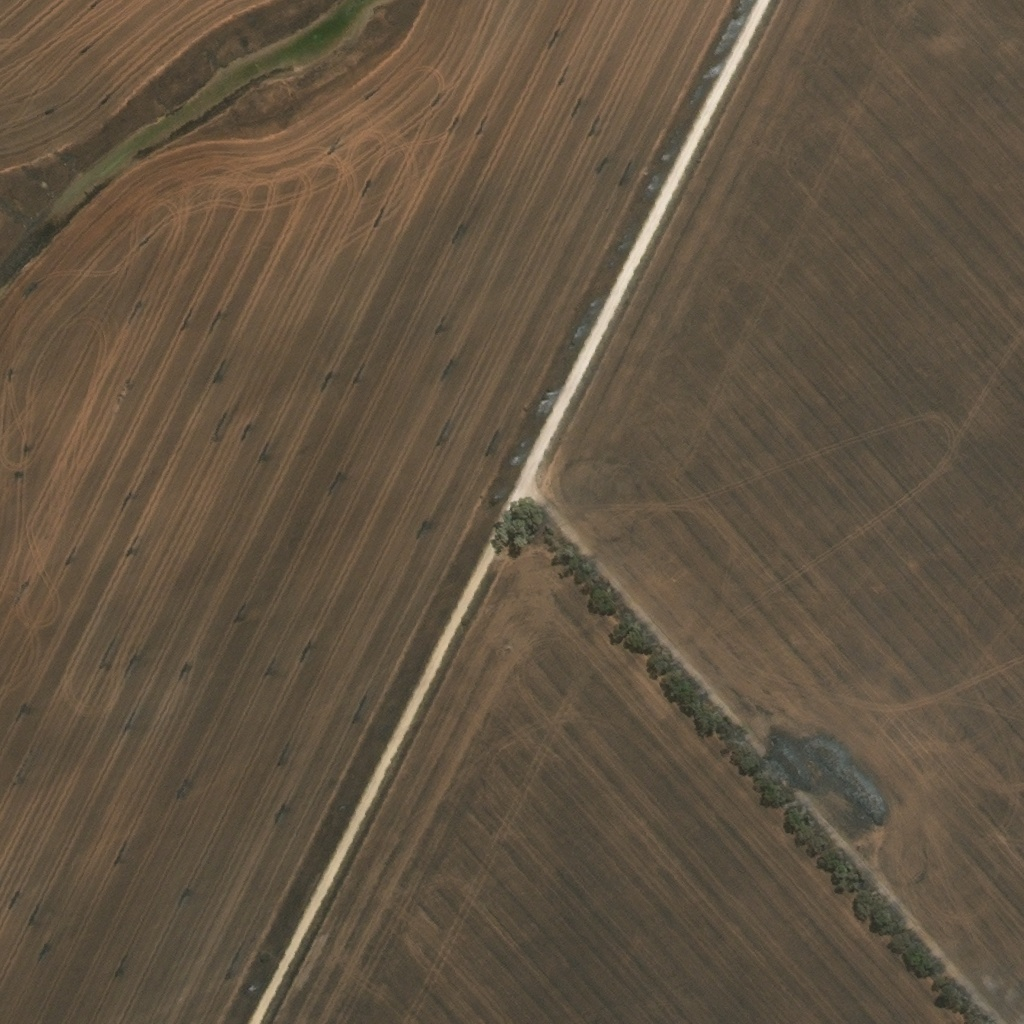3 destroyed: (764, 724, 824, 789), (830, 760, 886, 826)
